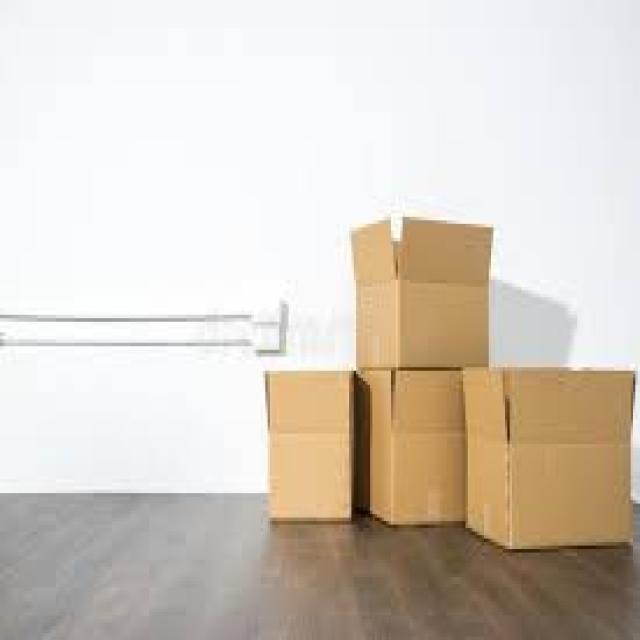Cardboard: (463, 367, 640, 545), (354, 213, 496, 360), (265, 368, 351, 526)
